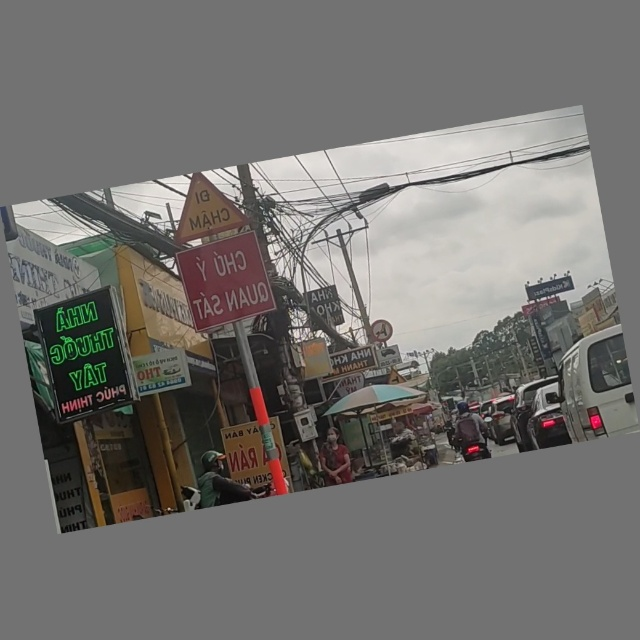P.139: (368, 319, 394, 344)
S.505a*Xe tai: (376, 345, 403, 369)
W.205b: (383, 367, 408, 390)
W.245a: (164, 166, 253, 246)
